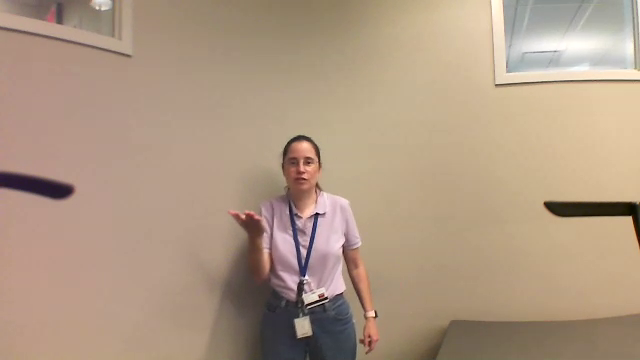land: (217, 197, 273, 240)
